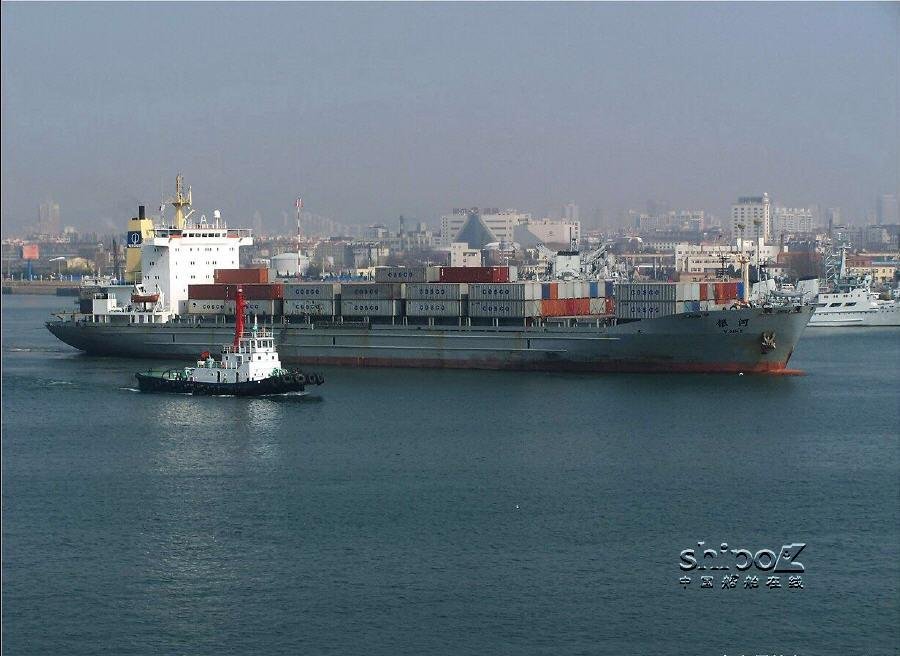Cargoship: (40, 174, 820, 365)
otherboat: (133, 294, 323, 408)
